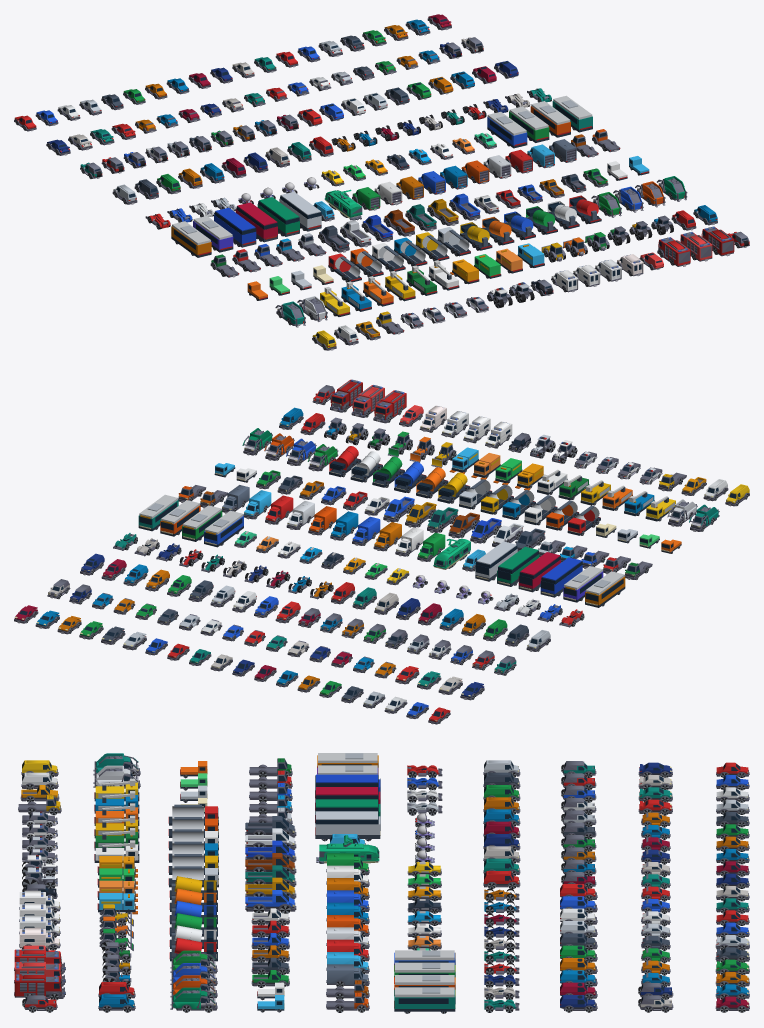
The model's file is traffic-fleet.glb.
3 views of the same model, one above another, from view 1: azimuth 30°, elevation 25°; view 2: azimuth 150°, elevation 25°; view 3: azimuth 270°, elevation 25° (orthographic). The views are drawn at different scales.
Visible parts, largest first — view 1: Vehicle_103, Vehicle_097, Vehicle_101, Vehicle_106, Vehicle_104, Vehicle_105, Vehicle_098, Vehicle_102, Vehicle_100, Vehicle_099, Vehicle_108, Vehicle_197 (+14 smaller); view 2: Vehicle_103, Vehicle_101, Vehicle_097, Vehicle_104, Vehicle_106, Vehicle_105, Vehicle_100, Vehicle_098, Vehicle_099, Vehicle_102, Vehicle_197, Vehicle_108 (+14 smaller); view 3: Vehicle_106, Vehicle_100, Vehicle_199, Vehicle_160, Vehicle_108, Vehicle_132, Vehicle_103, Vehicle_104, Vehicle_105, Vehicle_097, Vehicle_098, Vehicle_099 (+96 smaller).
Boxes of the visible parts, box(x1,y1,x2,y2) form: Vehicle_103: box(214, 207, 256, 247); Vehicle_097: box(487, 111, 527, 148); Vehicle_101: box(171, 221, 211, 257); Vehicle_106: box(279, 192, 321, 231); Vehicle_104: box(235, 202, 277, 242); Vehicle_105: box(257, 197, 299, 236); Vehicle_098: box(509, 106, 549, 142); Vehicle_102: box(193, 216, 233, 252); Vehicle_100: box(552, 95, 592, 132); Vehicle_099: box(530, 101, 570, 137); Vehicle_108: box(324, 189, 362, 220); Vehicle_197: box(657, 237, 690, 266); Vehicle_103: box(540, 557, 582, 597); Vehicle_101: box(585, 571, 625, 607); Vehicle_097: box(204, 510, 243, 547); Vehicle_104: box(518, 552, 560, 592); Vehicle_106: box(475, 541, 517, 581); Vehicle_105: box(497, 546, 539, 586); Vehicle_100: box(138, 494, 178, 531); Vehicle_098: box(182, 505, 222, 541); Vehicle_099: box(160, 500, 200, 536); Vehicle_102: box(563, 566, 603, 602); Vehicle_197: box(373, 390, 406, 423); Vehicle_108: box(433, 538, 470, 569); Vehicle_106: box(315, 811, 380, 841); Vehicle_100: box(394, 987, 455, 1013); Vehicle_199: box(14, 974, 65, 1000); Vehicle_160: box(170, 987, 217, 1012); Vehicle_108: box(316, 835, 379, 863); Vehicle_132: box(245, 890, 296, 913); Vehicle_103: box(315, 774, 380, 797); Vehicle_104: box(315, 787, 380, 810); Vehicle_105: box(315, 799, 380, 822); Vehicle_097: box(394, 950, 455, 971); Vehicle_098: box(394, 962, 455, 983); Vehicle_099: box(394, 975, 455, 995).
Bounding box in the file's own units: 70.73 × 3.3 × 90.83.
